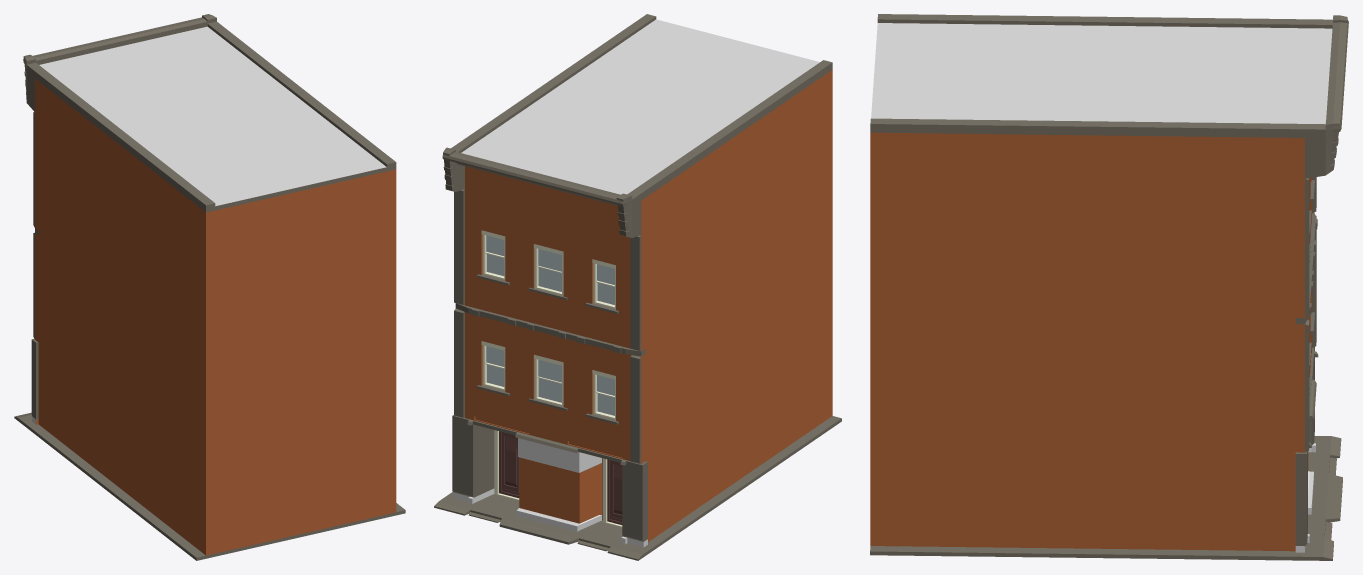
Rendered from Building_6.fbx.
The picture shows the model from 3 angles, left to right: view 1: azimuth 30°, elevation 25°; view 2: azimuth 150°, elevation 25°; view 3: azimuth 270°, elevation 25°; orthographic projection. The views are drawn at different scales.
Visible parts, largest first — view 1: Cube.035; view 2: Cube.035; view 3: Cube.035.
Part boxes in pixels (box(x1,y1,x2,y2)): Cube.035: box(14, 14, 405, 560); Cube.035: box(434, 14, 841, 560); Cube.035: box(870, 14, 1348, 560).
Size of the model in its own units: 707 by 1122 by 1130.
